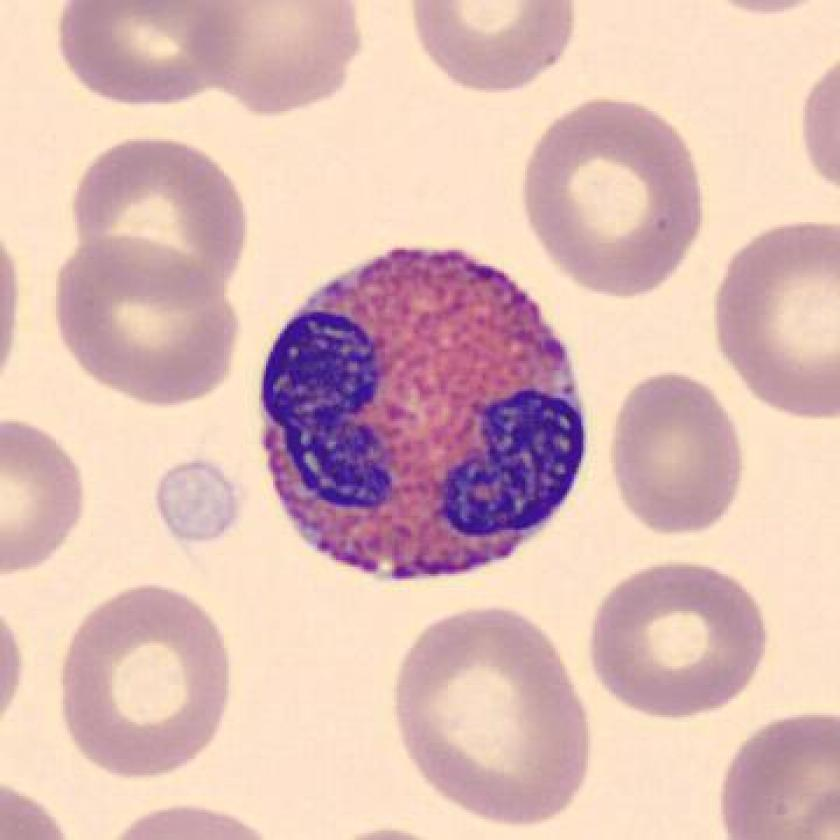eosinophil: (248, 228, 594, 591)
